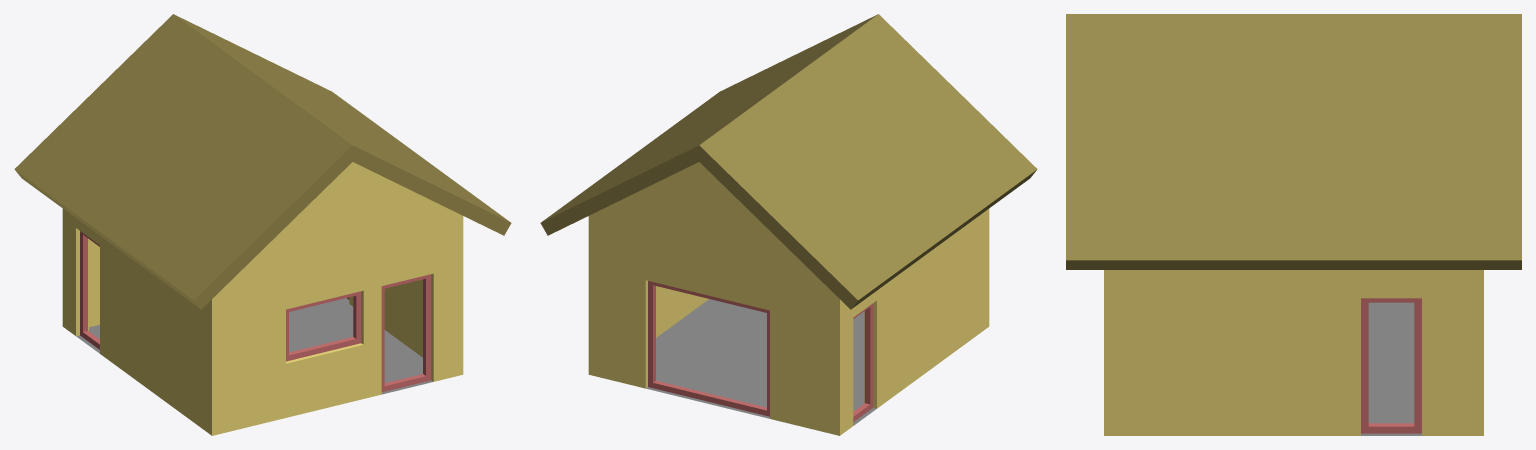
Rendered from result.glb.
The picture shows the model from 3 angles, left to right: view 1: azimuth 30°, elevation 25°; view 2: azimuth 150°, elevation 25°; view 3: azimuth 270°, elevation 25°; orthographic projection. The views are drawn at different scales.
Parts seen in each view (by area): view 1: f5457243-0f27-4338-8ecd-6c66e658941a__undefined (×2), e8ee1fb9-eb4e-4296-ad5a-00774df49fe4__undefined, 9859d1b1-18d7-4dd8-be6e-01acfcb51703__Plane_6, 3ebbf01b-d524-408b-8555-b6c580350ef4__Box, e04a4607-3f18-4f5f-8a8b-856c4a93ba23__Box_3, 48926cc9-8f39-4044-af92-0ba05270c801__Box_12; view 2: f5457243-0f27-4338-8ecd-6c66e658941a__undefined (×2), e8ee1fb9-eb4e-4296-ad5a-00774df49fe4__undefined, 9859d1b1-18d7-4dd8-be6e-01acfcb51703__Plane_6, c4962ebe-5b9d-40d6-89a8-b2ce2570cc10__Box_9, 48926cc9-8f39-4044-af92-0ba05270c801__Box_12; view 3: f5457243-0f27-4338-8ecd-6c66e658941a__undefined, e8ee1fb9-eb4e-4296-ad5a-00774df49fe4__undefined, 9859d1b1-18d7-4dd8-be6e-01acfcb51703__Plane_6, e7016aa4-542d-4be3-9f2e-52af369e8588__Box_15.
Part boxes in pixels (<box>): f5457243-0f27-4338-8ecd-6c66e658941a__undefined (×2): <box>14,14,511,309</box>; e8ee1fb9-eb4e-4296-ad5a-00774df49fe4__undefined: <box>62,162,463,435</box>; 9859d1b1-18d7-4dd8-be6e-01acfcb51703__Plane_6: <box>76,298,432,394</box>; 3ebbf01b-d524-408b-8555-b6c580350ef4__Box: <box>381,274,431,392</box>; e04a4607-3f18-4f5f-8a8b-856c4a93ba23__Box_3: <box>286,291,361,361</box>; 48926cc9-8f39-4044-af92-0ba05270c801__Box_12: <box>80,231,99,349</box>; f5457243-0f27-4338-8ecd-6c66e658941a__undefined (×2): <box>540,14,1037,309</box>; e8ee1fb9-eb4e-4296-ad5a-00774df49fe4__undefined: <box>588,162,989,435</box>; 9859d1b1-18d7-4dd8-be6e-01acfcb51703__Plane_6: <box>646,299,876,425</box>; c4962ebe-5b9d-40d6-89a8-b2ce2570cc10__Box_9: <box>648,281,769,416</box>; 48926cc9-8f39-4044-af92-0ba05270c801__Box_12: <box>853,303,873,421</box>; f5457243-0f27-4338-8ecd-6c66e658941a__undefined: <box>1066,14,1521,269</box>; e8ee1fb9-eb4e-4296-ad5a-00774df49fe4__undefined: <box>1104,270,1483,435</box>; 9859d1b1-18d7-4dd8-be6e-01acfcb51703__Plane_6: <box>1361,302,1421,435</box>; e7016aa4-542d-4be3-9f2e-52af369e8588__Box_15: <box>1361,298,1421,433</box>.
Bounding box in the file's own units: 614 × 500 × 600.
